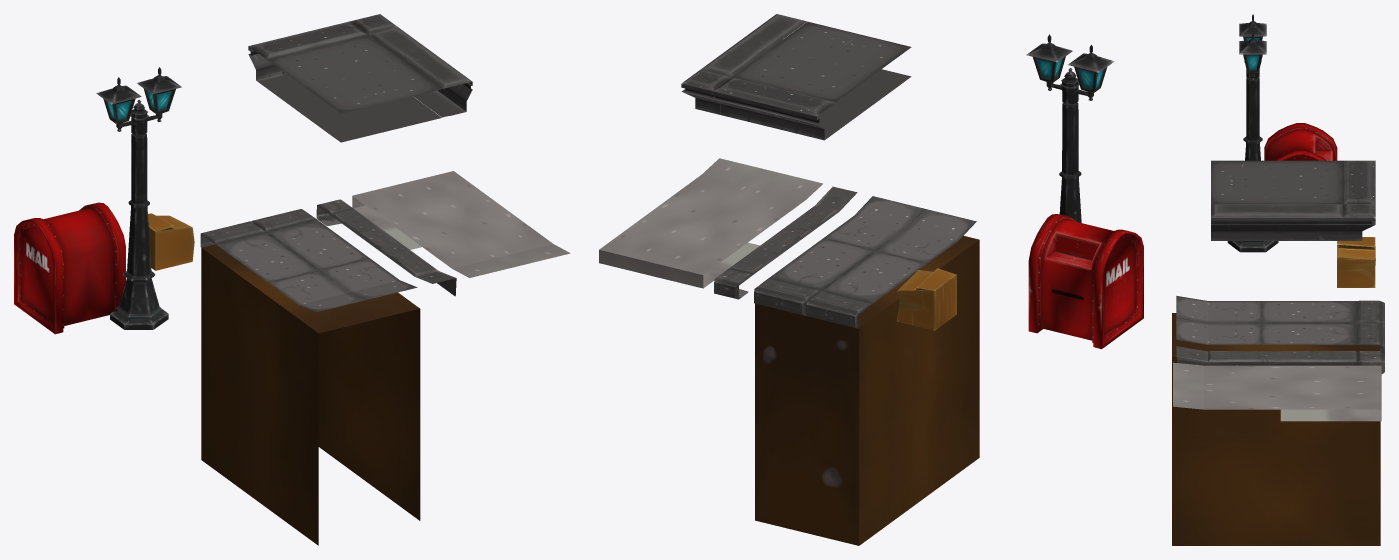
Rendered from props.fbx.
3 renders of one model, left to right at view 1: azimuth 30°, elevation 25°; view 2: azimuth 150°, elevation 25°; view 3: azimuth 270°, elevation 25°, orthographic. The views are drawn at different scales.
Visible parts, largest first — view 1: fondo, plataforma, cemento, buzon, piso, farol, esquina, piso esquina, caja; view 2: fondo, cemento, piso, plataforma, buzon, farol, esquina, piso esquina, caja; view 3: fondo, cemento, piso, plataforma, esquina, piso esquina, farol, buzon, caja.
Boxes of the visible parts, box(x1,y1,x2,y2) form: fondo: box(201, 244, 420, 545); plataforma: box(248, 21, 441, 142); cemento: box(352, 171, 570, 277); buzon: box(14, 202, 125, 334); piso: box(200, 209, 417, 312); farol: box(96, 67, 181, 329); esquina: box(350, 14, 472, 117); piso esquina: box(316, 199, 456, 296); caja: box(148, 213, 194, 270); fondo: box(755, 235, 979, 545); cemento: box(599, 158, 822, 288); piso: box(754, 196, 976, 328); plataforma: box(712, 21, 911, 140); buzon: box(1028, 214, 1143, 349); farol: box(1026, 34, 1114, 222); esquina: box(681, 14, 806, 114); piso esquina: box(714, 186, 857, 299); caja: box(896, 268, 956, 330); fondo: box(1172, 313, 1380, 545); cemento: box(1173, 362, 1381, 421); piso: box(1176, 296, 1384, 353); plataforma: box(1211, 160, 1375, 204); esquina: box(1211, 204, 1375, 240); piso esquina: box(1176, 346, 1384, 373); farol: box(1227, 14, 1278, 252); buzon: box(1264, 123, 1337, 160); caja: box(1337, 237, 1375, 287).
Bounding box in the file's own units: 4.58 × 4.46 × 2.04.
Materials: 9 (9 with a texture image).
